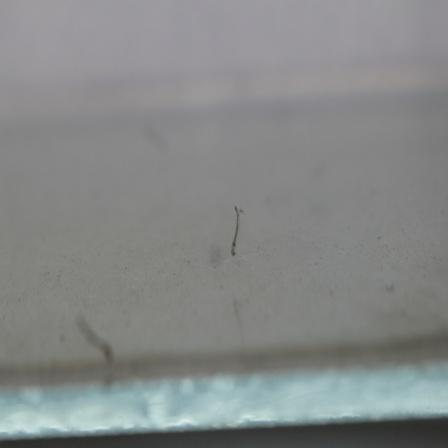Jentik-Nyamuk: (224, 203, 248, 261)
